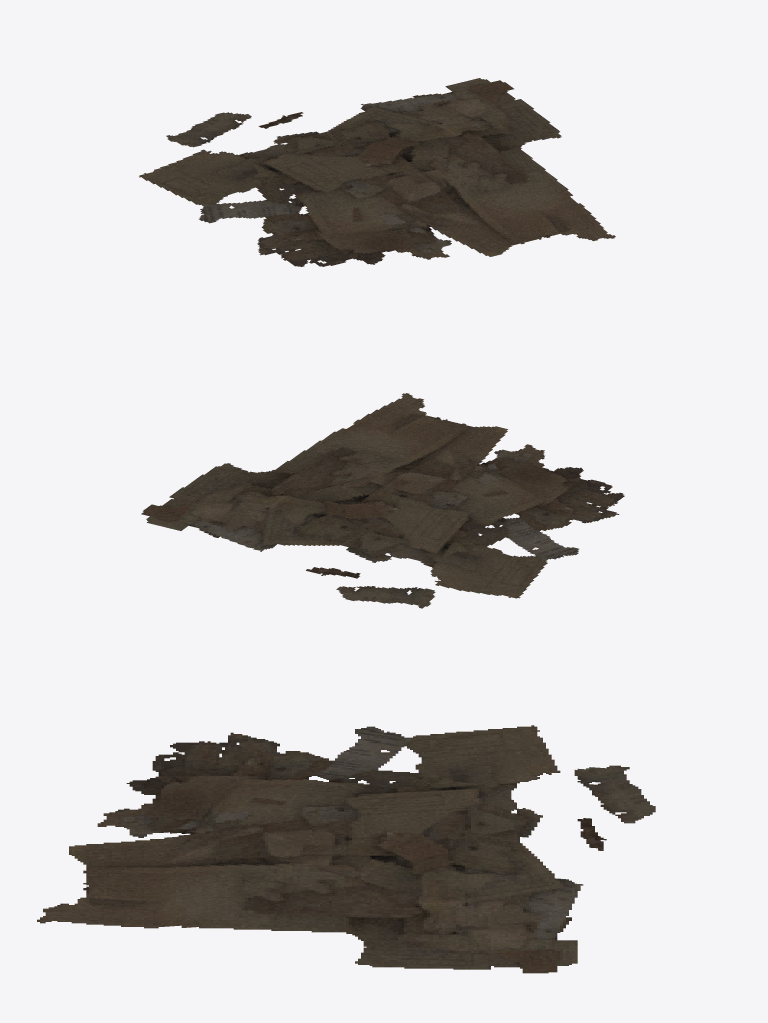
The model's file is trash_3.glb.
3 renders of one model, top to bottom at view 1: azimuth 30°, elevation 25°; view 2: azimuth 150°, elevation 25°; view 3: azimuth 270°, elevation 25°, orthographic. The views are drawn at different scales.
Visible parts, largest first — view 1: trash_3; view 2: trash_3; view 3: trash_3.
Part boxes in pixels (x1,y1,x2,y2): trash_3: [139, 78, 615, 266]; trash_3: [141, 393, 624, 608]; trash_3: [37, 725, 655, 973].
Size of the model in its own units: 1 by 0.0147 by 1.
1 material, 1 textured.
